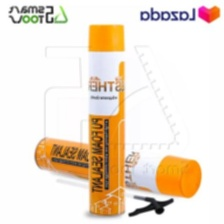aerosol_cans: (32, 134, 206, 201), (83, 20, 129, 220)
